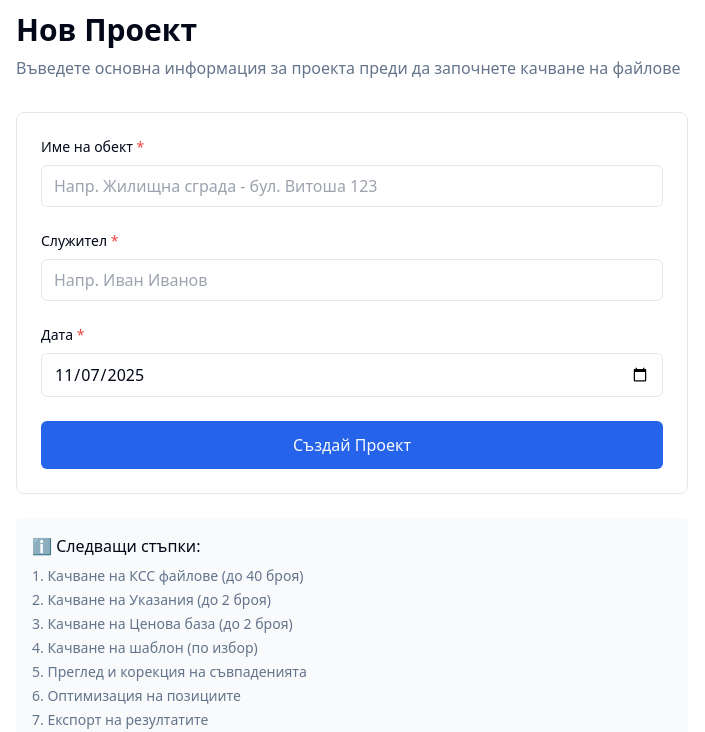
it: SetupPage › displays validation errors for empty required fields
Click the button "Създай Проект".
click(352, 445)  # box x1=41 y1=421 x2=663 y2=469
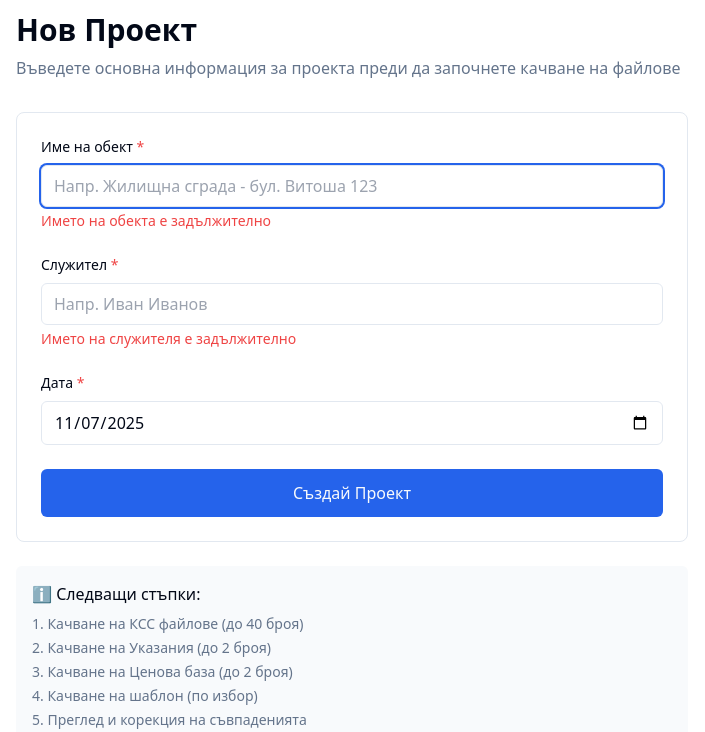
Check: the text "Името на обекта е задължително" is shown, box x1=41 y1=211 x2=271 y2=230
Check: the text "Името на служителя е задължително" is shown, box x1=41 y1=329 x2=296 y2=348
